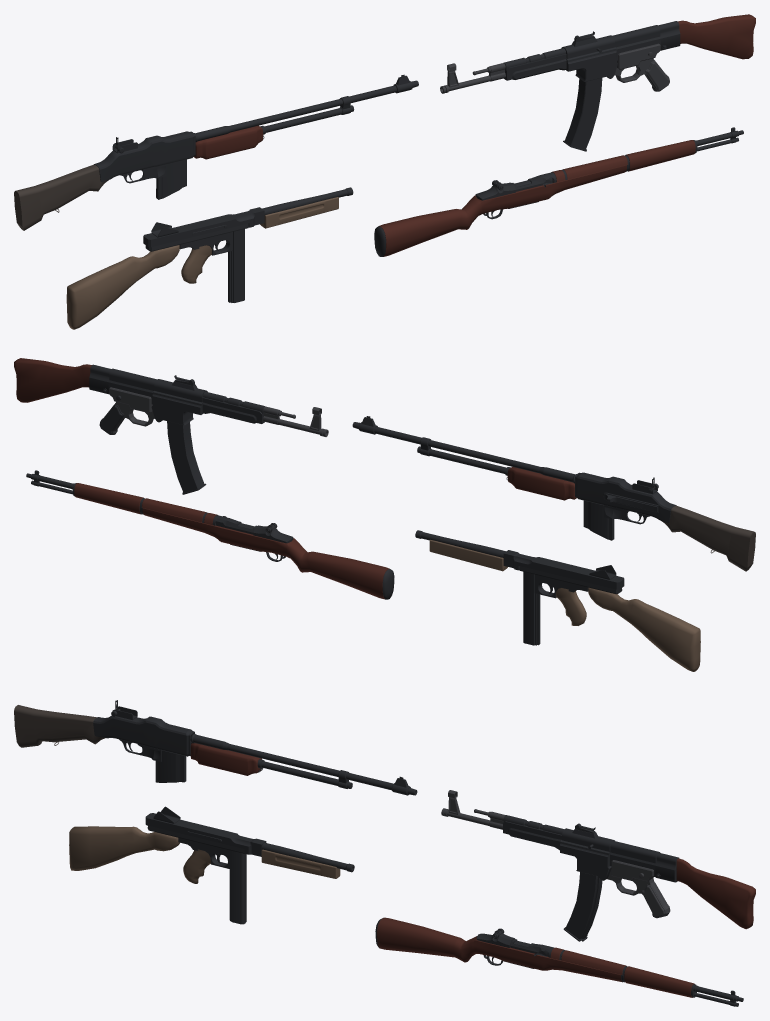
File: ww2_weapons.glb
The picture shows the model from 3 angles, top to bottom: view 1: azimuth 30°, elevation 25°; view 2: azimuth 150°, elevation 25°; view 3: azimuth 330°, elevation 25°; orthographic projection.
Parts seen in each view (by area): view 1: Object_4, Object_2, Object_5, Object_3; view 2: Object_4, Object_2, Object_5, Object_3; view 3: Object_4, Object_2, Object_5, Object_3.
Boxes of the visible parts, bbox=[...] form: Object_4: bbox=[440, 14, 755, 151]; Object_2: bbox=[14, 74, 418, 230]; Object_5: bbox=[66, 187, 353, 329]; Object_3: bbox=[374, 127, 743, 256]; Object_4: bbox=[14, 358, 328, 494]; Object_2: bbox=[352, 416, 755, 571]; Object_5: bbox=[415, 530, 700, 671]; Object_3: bbox=[26, 470, 394, 599]; Object_4: bbox=[441, 790, 755, 941]; Object_2: bbox=[14, 700, 417, 795]; Object_5: bbox=[69, 806, 354, 924]; Object_3: bbox=[375, 917, 743, 1006].
Size of the model in its own units: 2.23 by 0.5616 by 0.0616.
1 material, 1 textured.
